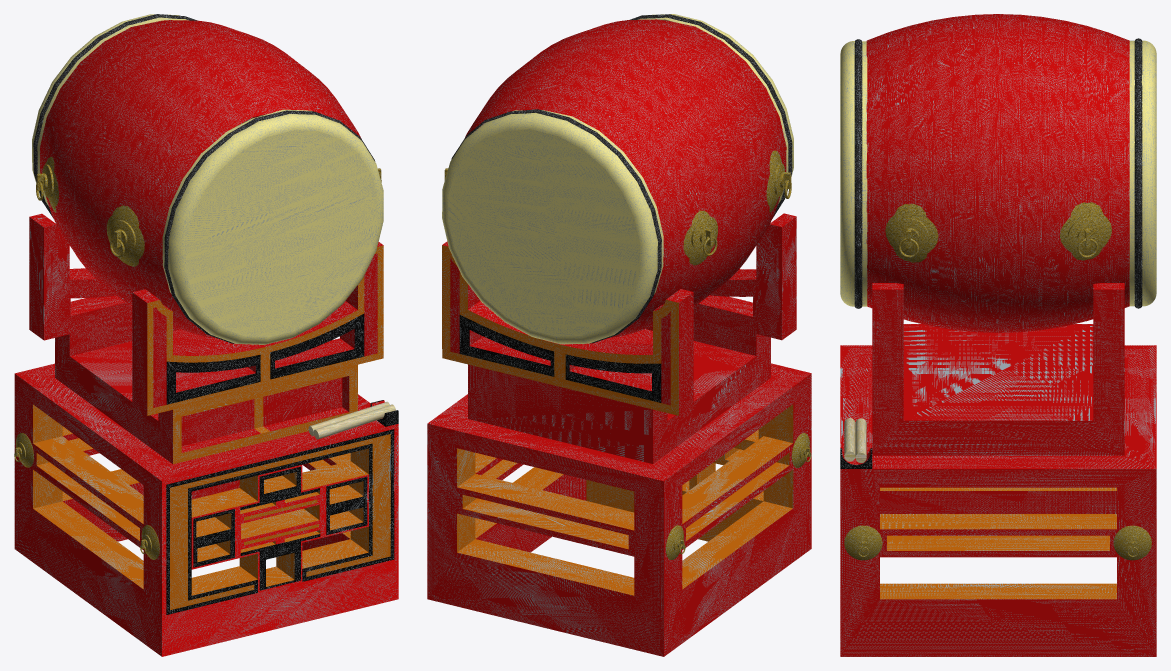
3 renders of one model, left to right at view 1: azimuth 30°, elevation 25°; view 2: azimuth 150°, elevation 25°; view 3: azimuth 270°, elevation 25°, orthographic. The views are drawn at different scales.
Visible parts, largest first — view 1: SketchUp (×34); view 2: SketchUp (×21); view 3: SketchUp (×16).
Boxes of the visible parts, x1,y1,x2,y2 form: SketchUp (×34): (14,14,398,656); SketchUp (×21): (427,14,811,656); SketchUp (×16): (840,14,1156,656).
Bounding box in the file's own units: 73.5 × 70.96 × 140.
Materials: 10 (2 with a texture image).
